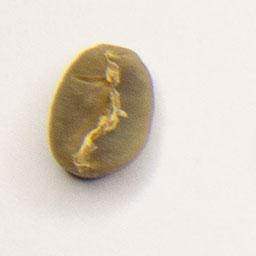premium: (45, 39, 159, 182)
